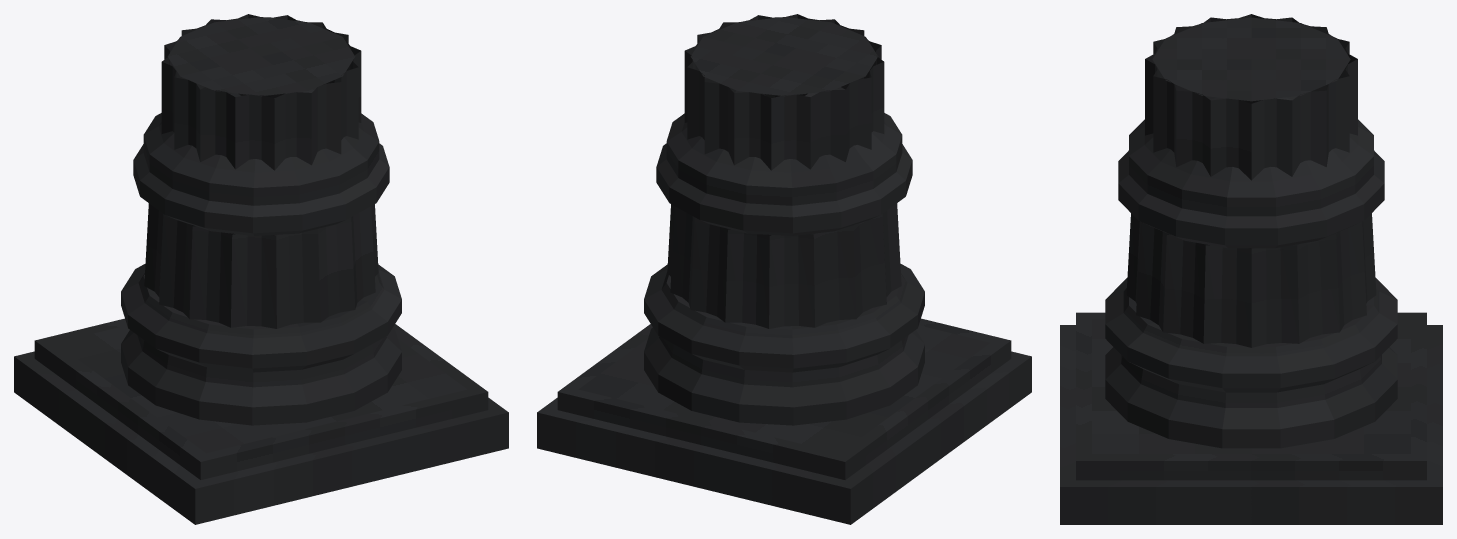
Rendered from decopole_lafluted_inv.obj.
3 renders of one model, left to right at view 1: azimuth 30°, elevation 25°; view 2: azimuth 150°, elevation 25°; view 3: azimuth 270°, elevation 25°, orthographic. The views are drawn at different scales.
Visible parts, largest first — view 1: decopole_lafluted_inv; view 2: decopole_lafluted_inv; view 3: decopole_lafluted_inv.
Boxes of the visible parts, <box> form: decopole_lafluted_inv: <box>14,14,508,524</box>; decopole_lafluted_inv: <box>537,14,1031,524</box>; decopole_lafluted_inv: <box>1060,14,1442,524</box>.
Size of the model in its own units: 0.9 by 1 by 0.9.
